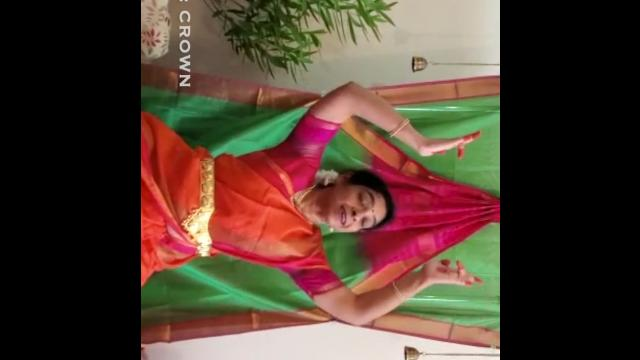tripataka: (412, 251, 488, 299), (410, 121, 480, 173)
